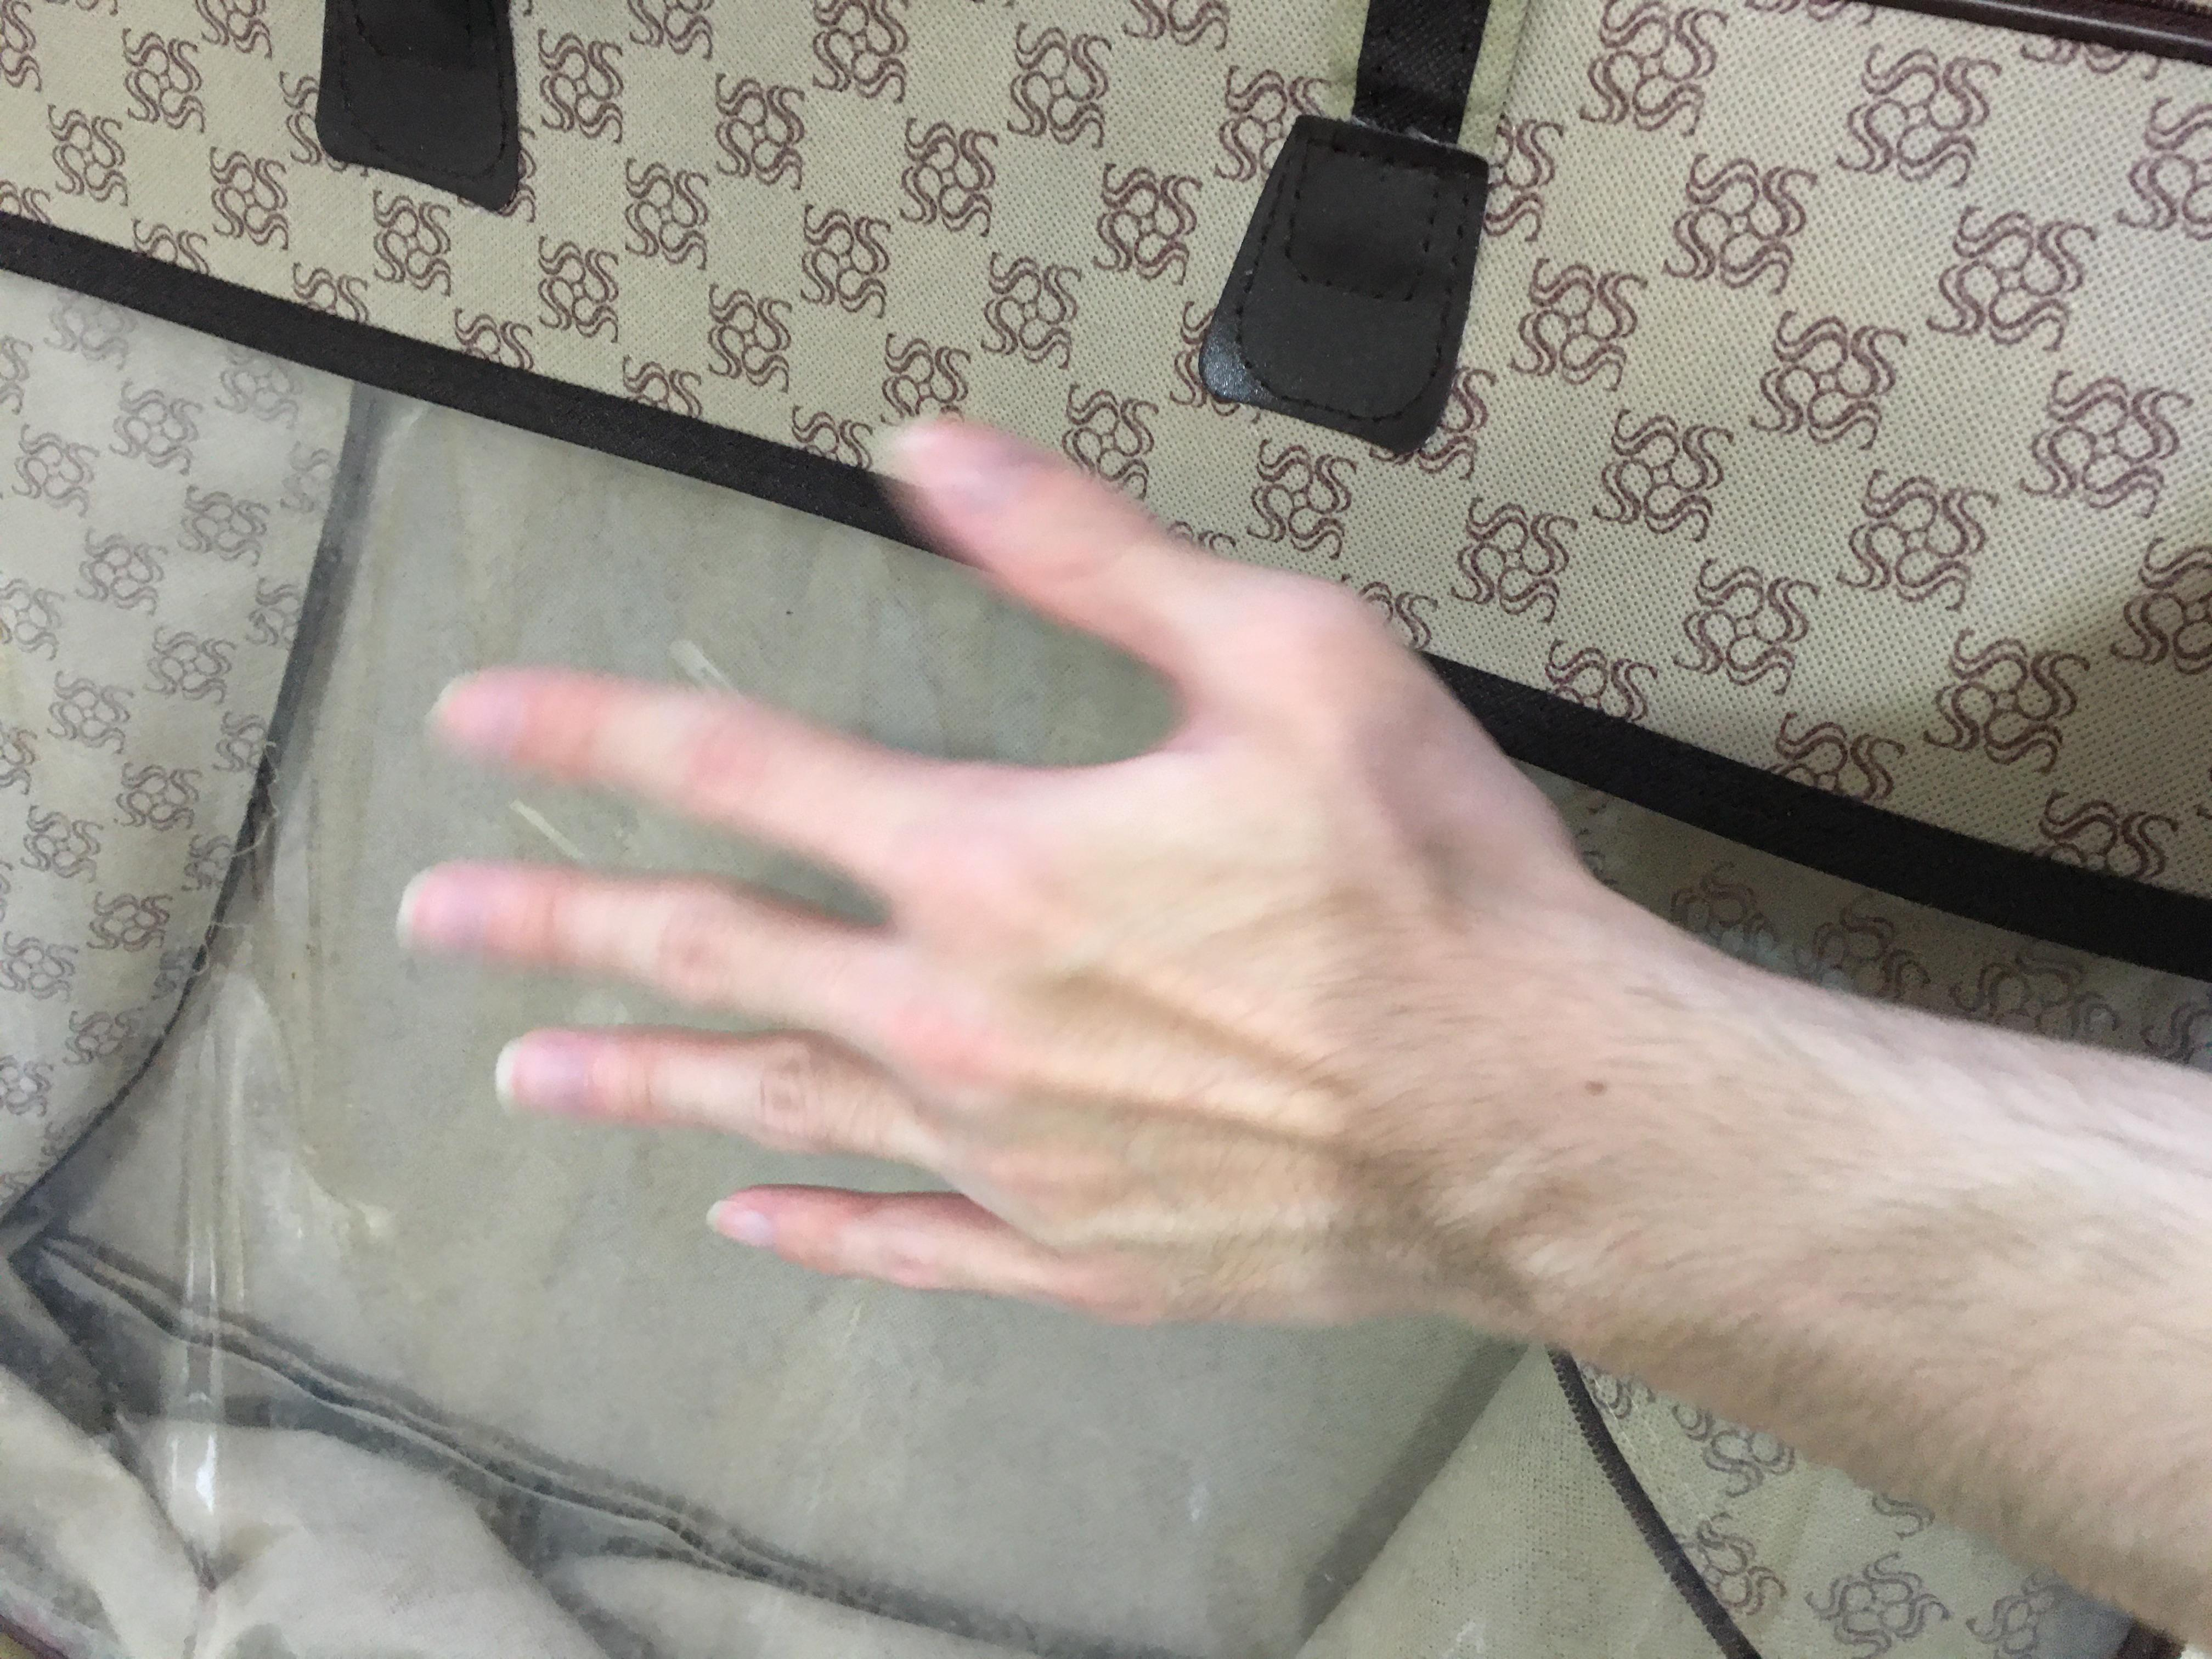hand: (397, 284, 1677, 1154)
